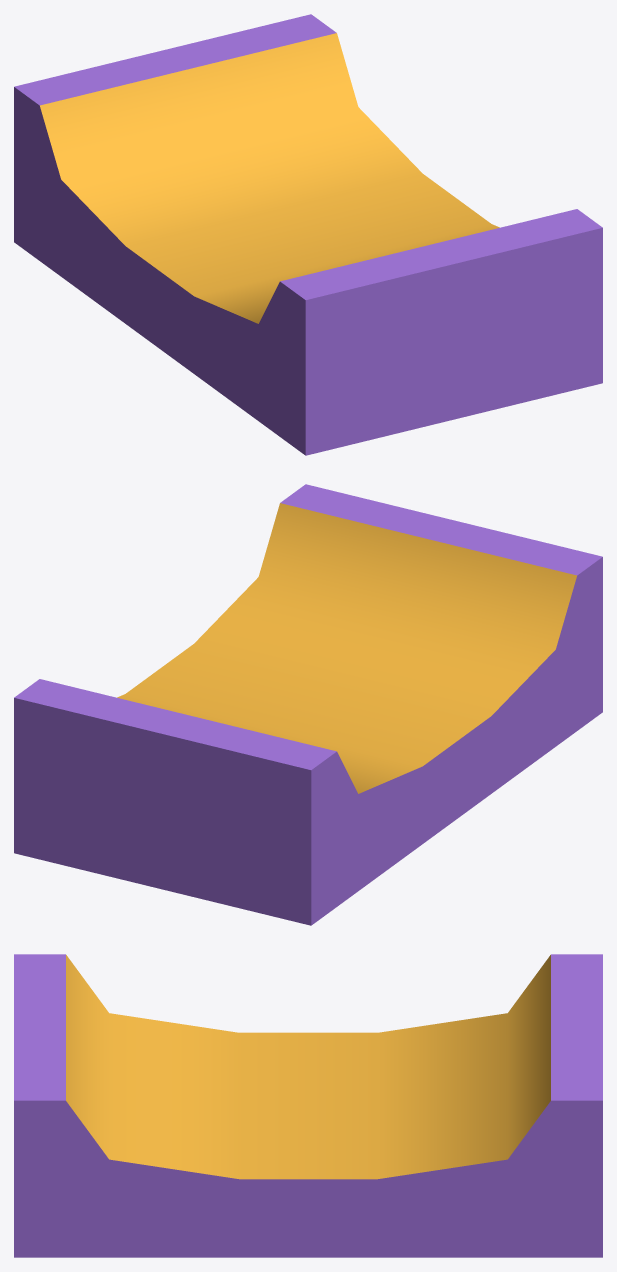
The model's file is straight-wide-col.glb.
3 renders of one model, top to bottom at view 1: azimuth 30°, elevation 25°; view 2: azimuth 150°, elevation 25°; view 3: azimuth 270°, elevation 25°, orthographic.
Visible parts, largest first — view 1: straight-wide-col; view 2: straight-wide-col; view 3: straight-wide-col.
Part boxes in pixels (left/top/right/bottom): straight-wide-col: left=14, top=14, right=602, bottom=455; straight-wide-col: left=14, top=484, right=602, bottom=925; straight-wide-col: left=14, top=954, right=602, bottom=1257.
Bounding box in the file's own units: 1 × 0.5 × 1.7.
1 material, 1 textured.
